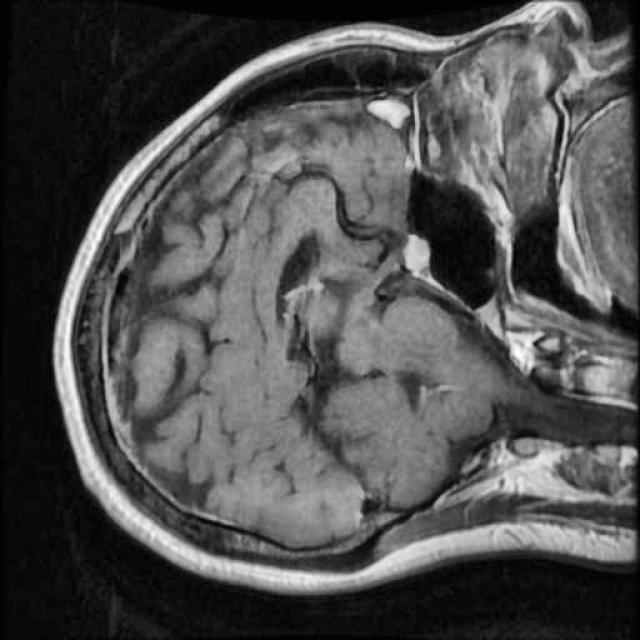Tumor: (390, 223, 442, 286)
